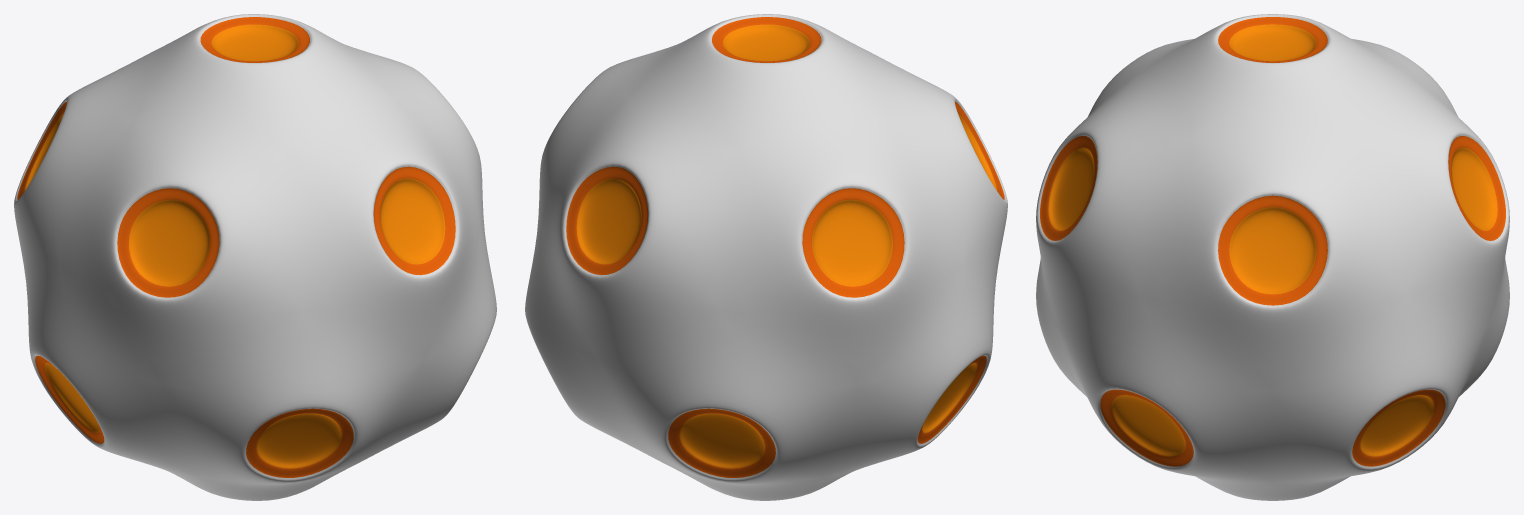
The picture shows the model from 3 angles, left to right: view 1: azimuth 30°, elevation 25°; view 2: azimuth 150°, elevation 25°; view 3: azimuth 270°, elevation 25°; orthographic projection.
Visible parts, largest first — view 1: Sphere; view 2: Sphere; view 3: Sphere.
Boxes of the visible parts, x1=… form: Sphere: x1=14, y1=14, x2=496, y2=500; Sphere: x1=525, y1=14, x2=1007, y2=500; Sphere: x1=1036, y1=14, x2=1509, y2=500.
Size of the model in its own units: 16.48 by 16.42 by 16.12.
